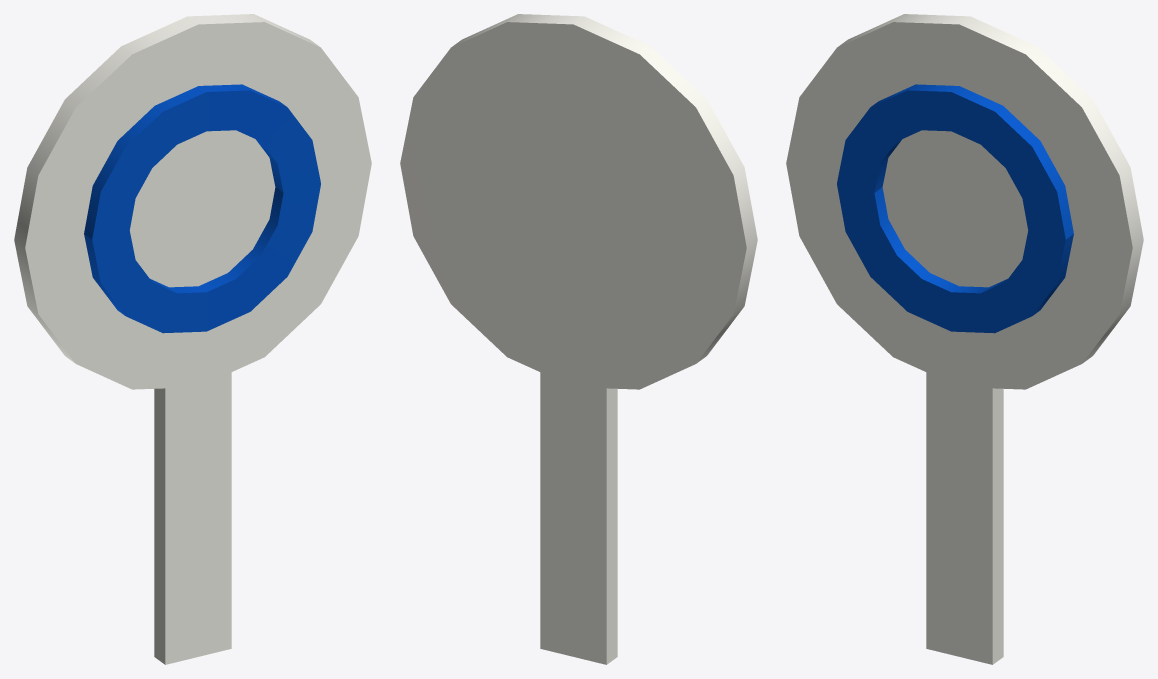
Rendered from dodam_Prop_sign_O.fbx.
3 renders of one model, left to right at view 1: azimuth 30°, elevation 25°; view 2: azimuth 150°, elevation 25°; view 3: azimuth 330°, elevation 25°, orthographic.
Visible parts, largest first — view 1: dodam_SIGN_o; view 2: dodam_SIGN_o; view 3: dodam_SIGN_o.
Part boxes in pixels (x1,y1,x2,y2): dodam_SIGN_o: [14, 14, 371, 664]; dodam_SIGN_o: [400, 14, 757, 664]; dodam_SIGN_o: [786, 14, 1143, 664].
Bounding box in the file's own units: 23.58 × 41.11 × 2.26.
Materials: 1 (1 with a texture image).
